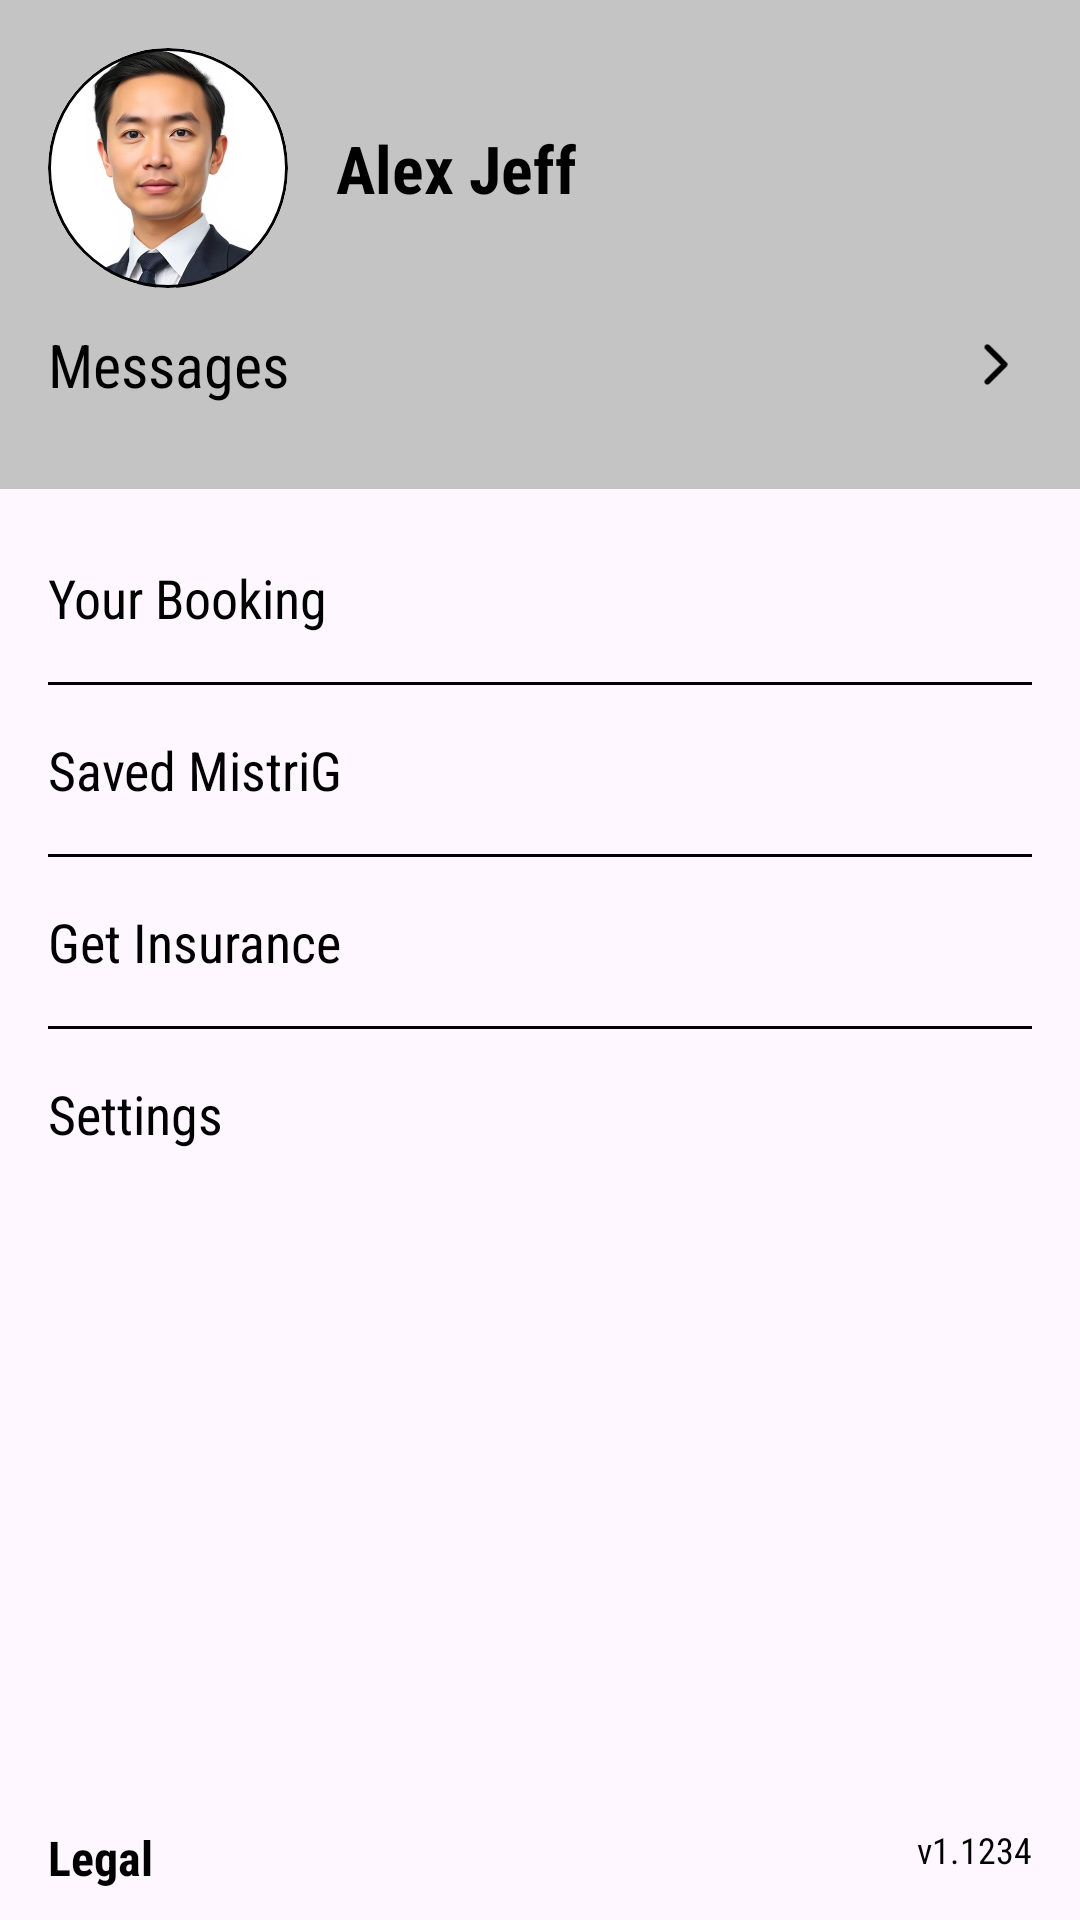

Icons on this 1080 × 1920 Android screen, each with its box as (x1, y1, x2, y2):
right arrow: (984, 344, 1008, 385)
user example phot: (48, 48, 288, 288)
